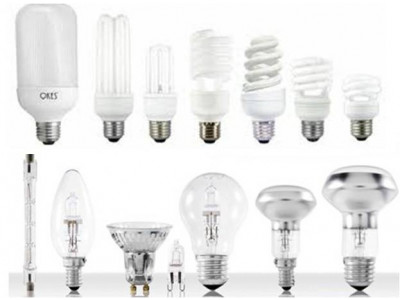Light_bulb: (10, 3, 85, 144), (321, 159, 398, 292), (177, 172, 251, 294), (45, 165, 104, 297), (254, 180, 320, 295), (103, 214, 175, 300), (95, 10, 139, 146), (187, 28, 234, 146), (242, 34, 288, 147), (134, 40, 180, 144), (290, 53, 336, 144), (338, 67, 387, 142), (21, 151, 42, 298)
